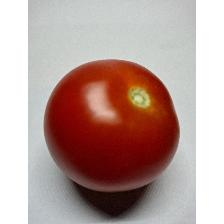Tomate: (43, 54, 181, 192)
